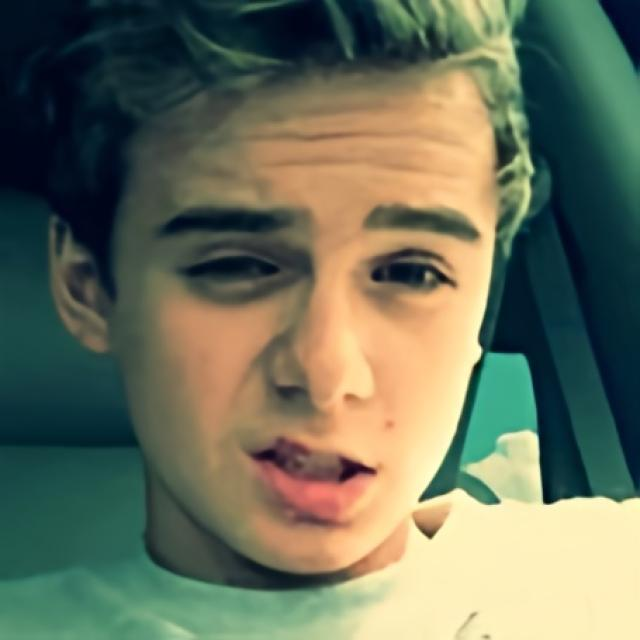disgust: (114, 53, 499, 576)
